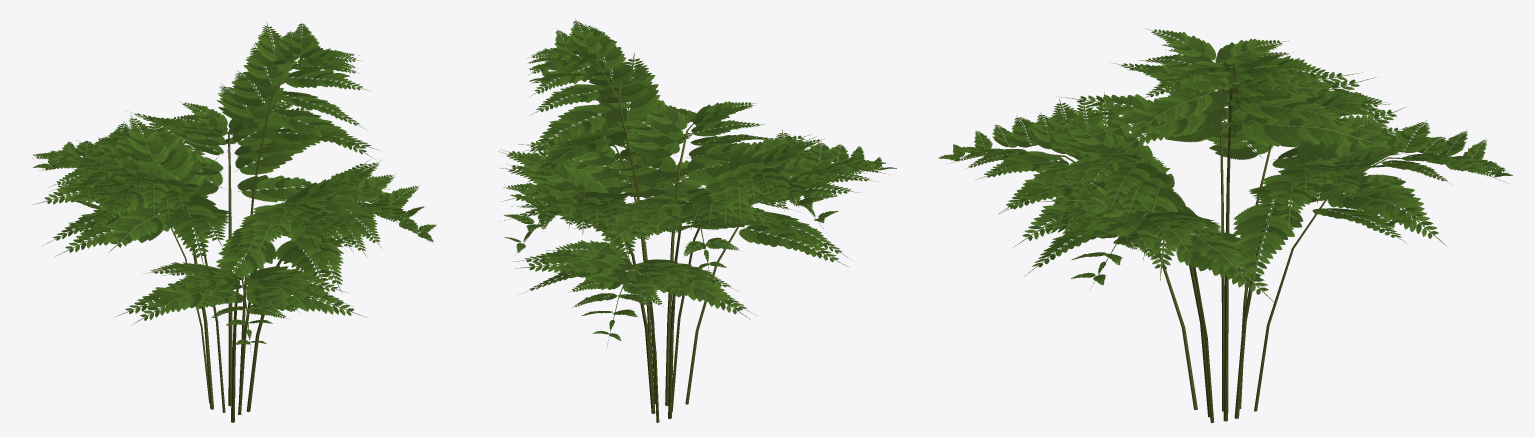
File: bracken.glb
3 views of the same model, side by side, from view 1: azimuth 30°, elevation 25°; view 2: azimuth 150°, elevation 25°; view 3: azimuth 270°, elevation 25° (orthographic). The views are drawn at different scales.
Visible parts, largest first — view 1: Bracken; view 2: Bracken; view 3: Bracken.
Boxes of the visible parts, x1,y1,x2,y2 form: Bracken: [32, 21, 436, 422]; Bracken: [498, 19, 896, 422]; Bracken: [938, 28, 1512, 422].
Bounding box in the file's own units: 0.9377 × 0.9224 × 1.23.
2 materials, 2 textured.
